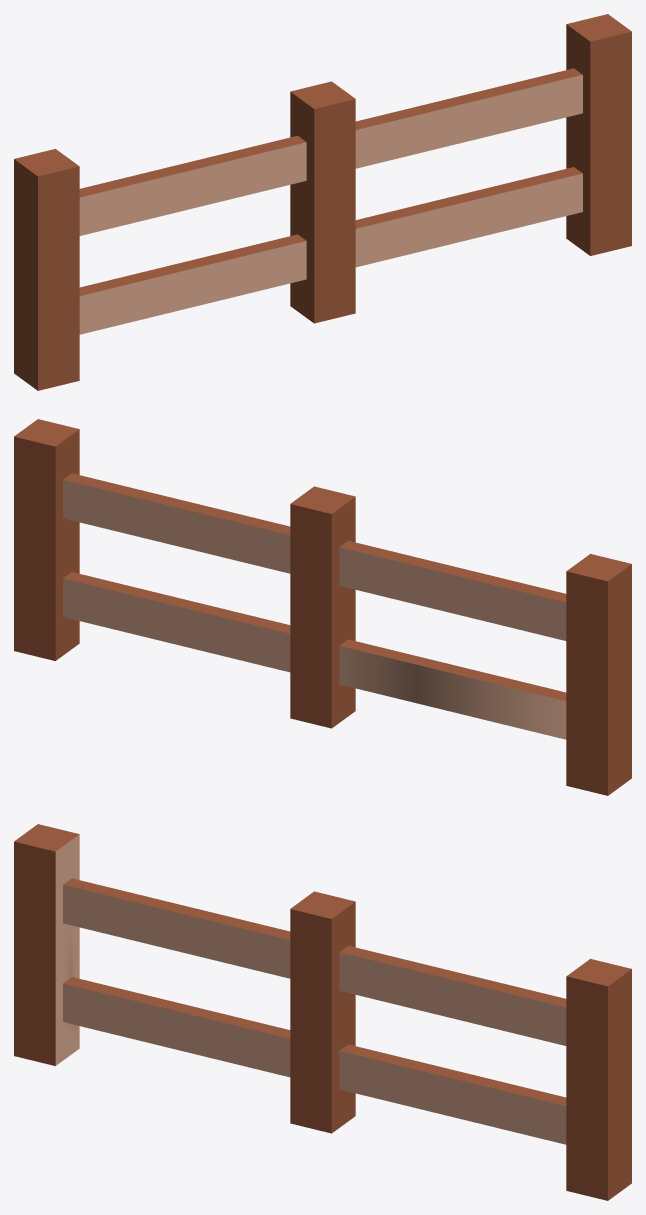
File: fence_simpleCenter.glb
3 views of the same model, one above another, from view 1: azimuth 30°, elevation 25°; view 2: azimuth 150°, elevation 25°; view 3: azimuth 330°, elevation 25° (orthographic).
Parts seen in each view (by area): view 1: fence_simpleCenter; view 2: fence_simpleCenter; view 3: fence_simpleCenter.
Boxes of the visible parts, left/top/right/bottom form: fence_simpleCenter: left=14, top=14, right=631, bottom=390; fence_simpleCenter: left=14, top=419, right=631, bottom=795; fence_simpleCenter: left=14, top=824, right=631, bottom=1200.
Bounding box in the file's own units: 1 × 0.345 × 0.07.
